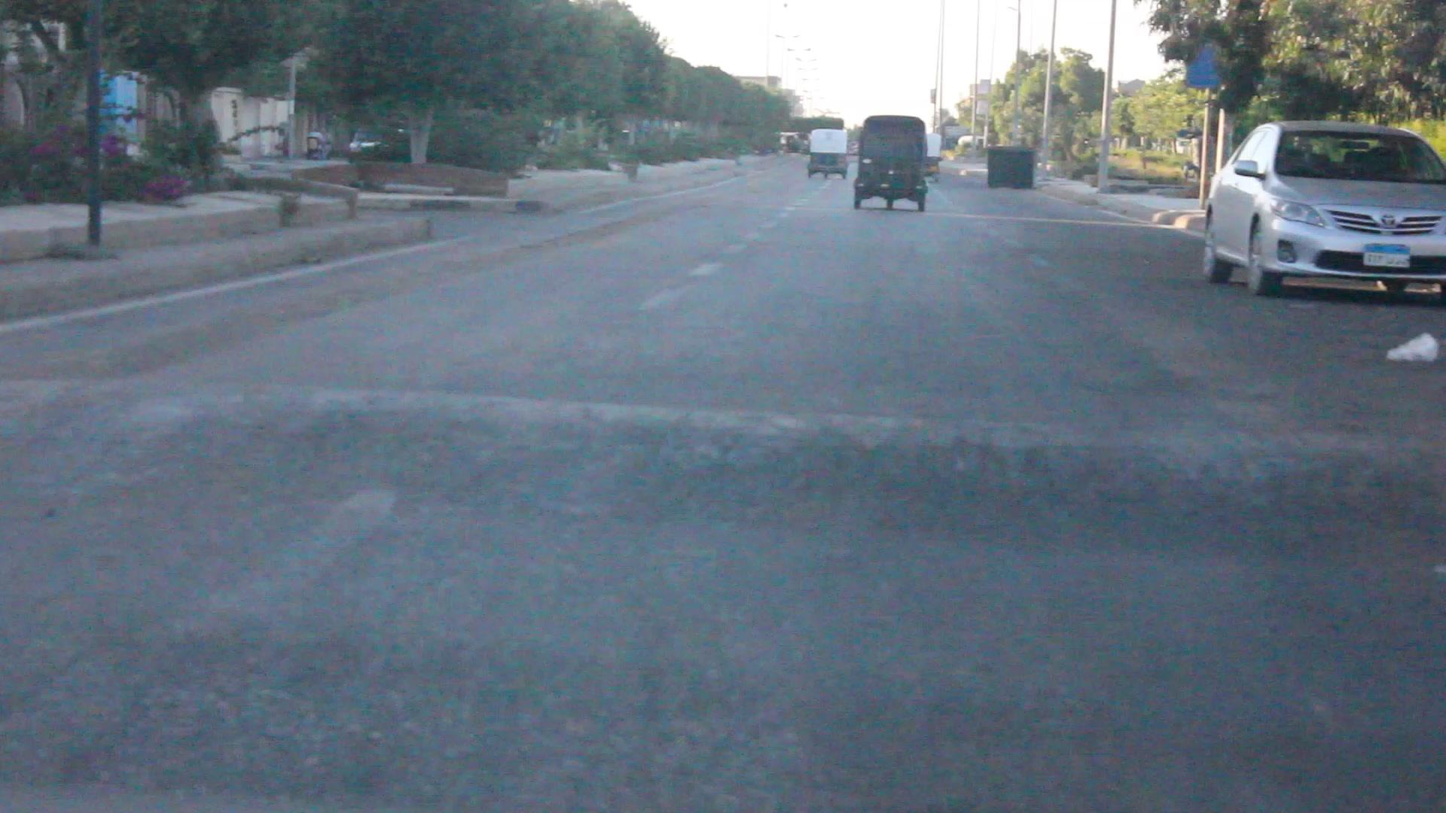Bump: (21, 384, 1446, 533)
